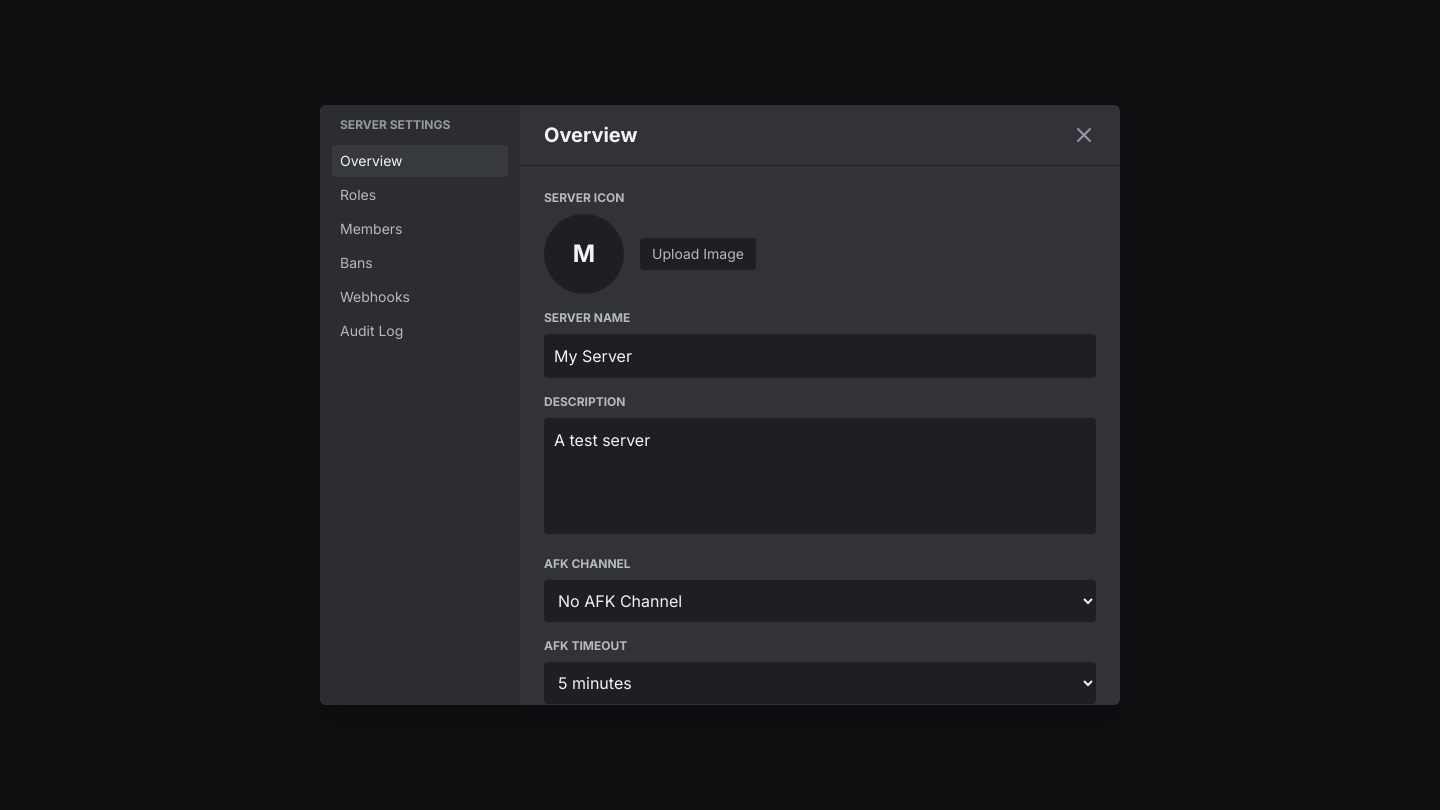
Test: ServerSettingsModal › Roles tab › shows role creation form when New Role is clicked
Step 1. Click the button "Roles" → (420, 195), box [332,179,508,211]
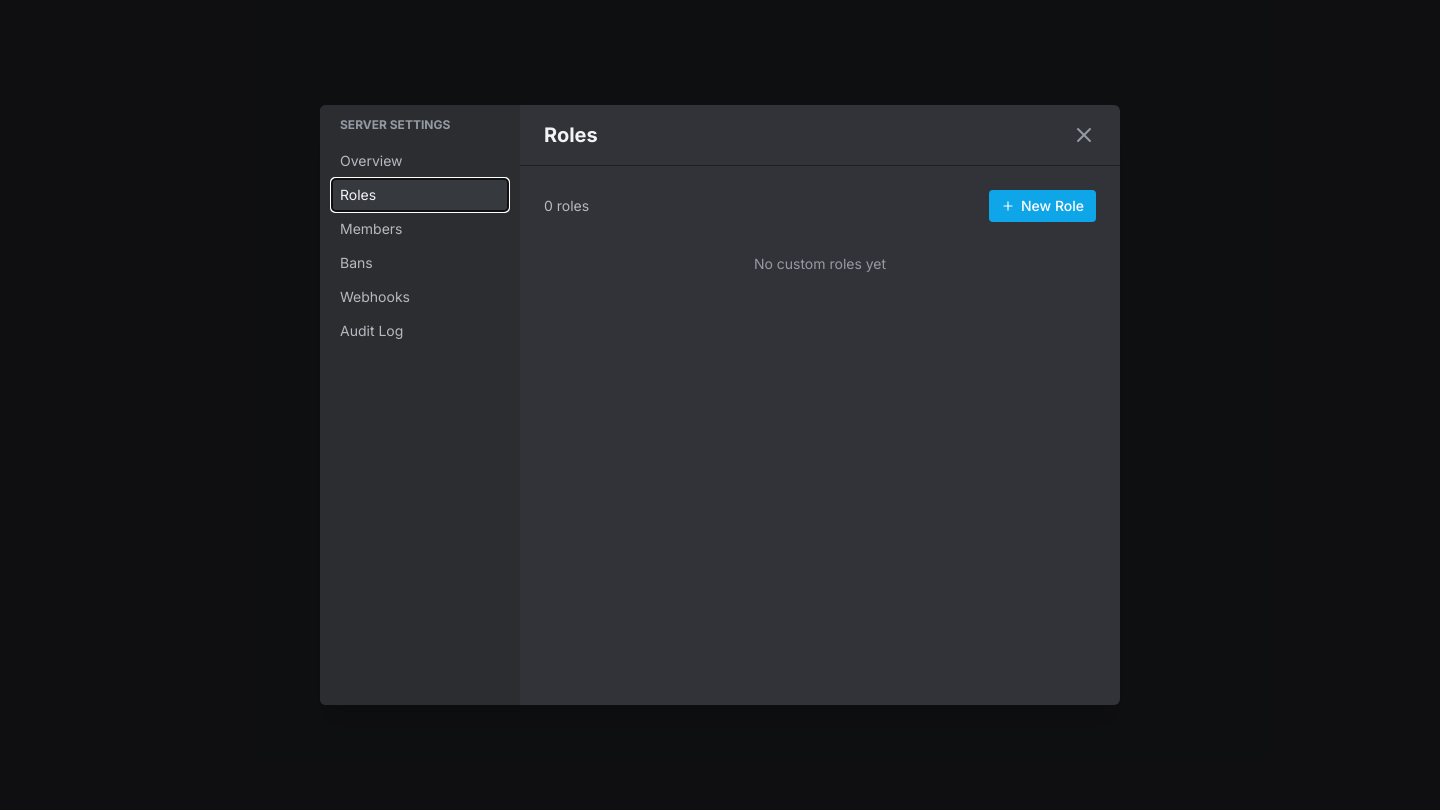
Step 2. Click the button "New Role" → (1042, 206), box [989,190,1096,222]
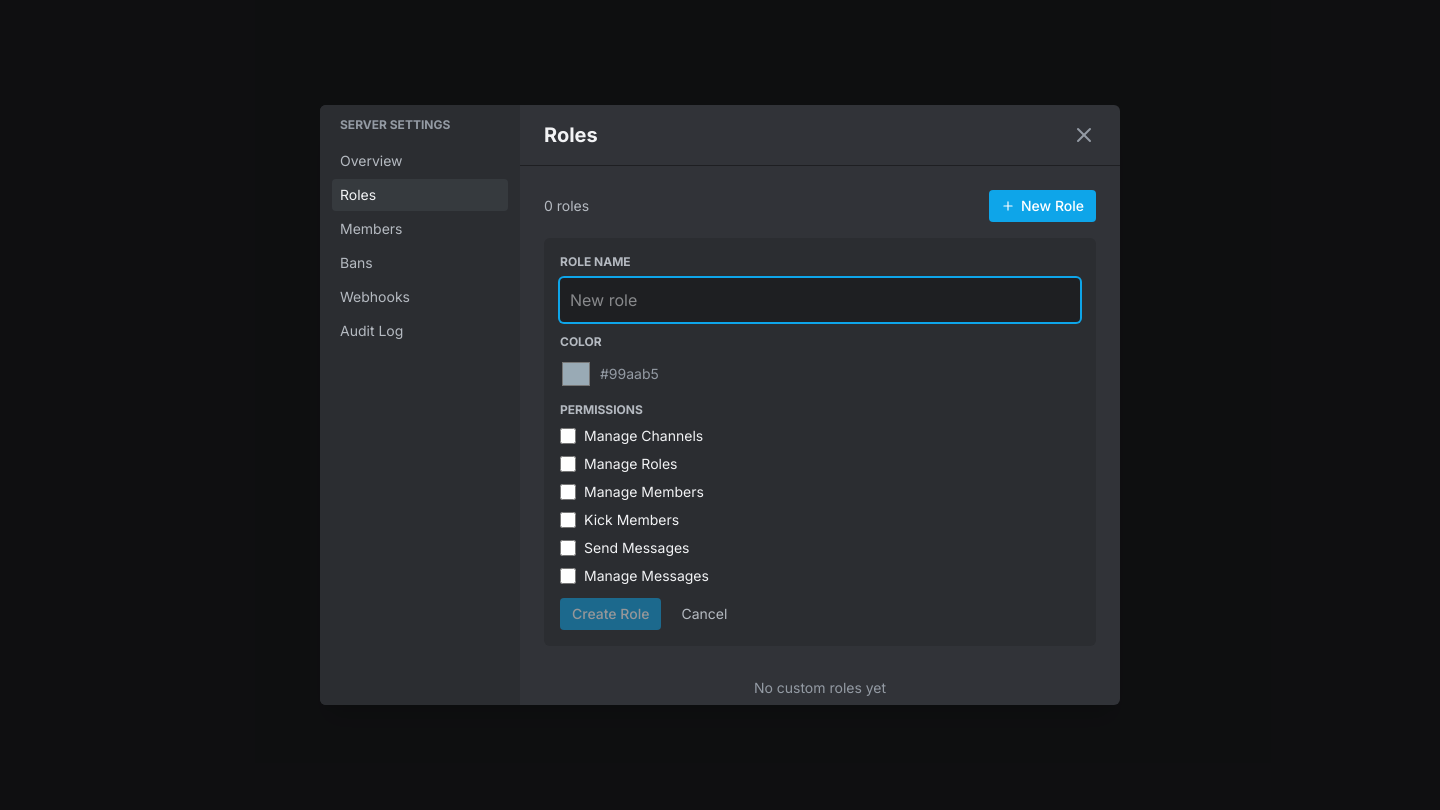
Check: the text "Role Name" is shown, box [560,254,631,269]
Check: the field with placeholder "New role" is shown, box [560,278,1080,322]
Check: the text "Permissions" is shown, box [560,402,643,417]
